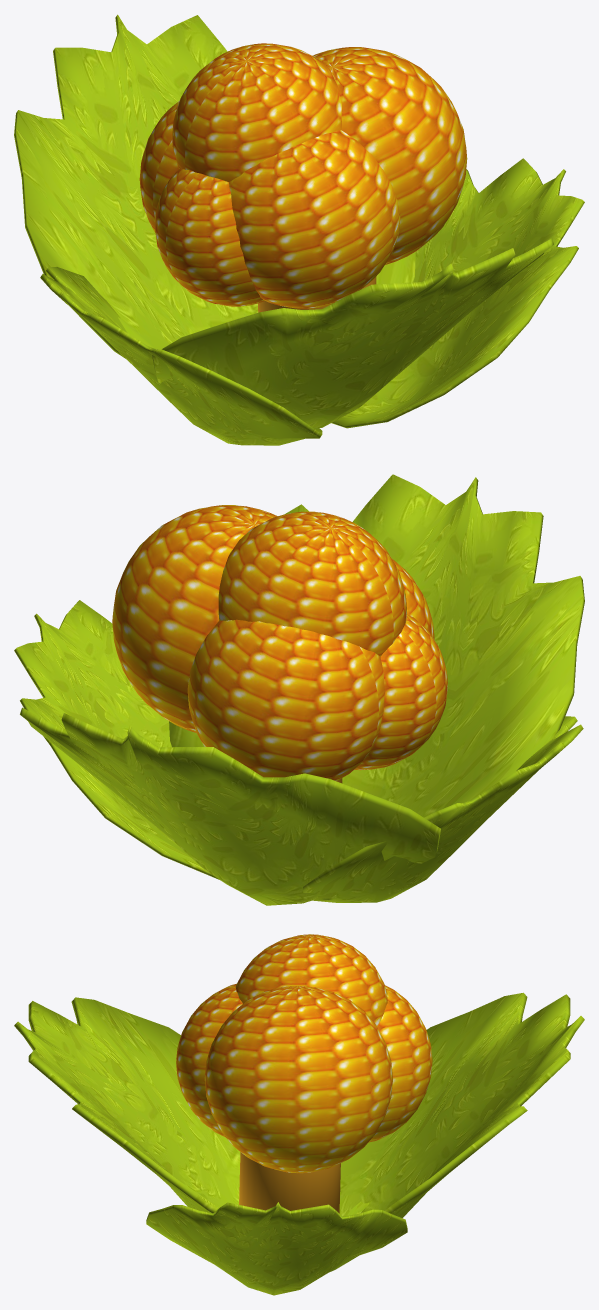
The model's file is sweetcorn3.fbx.
3 renders of one model, top to bottom at view 1: azimuth 30°, elevation 25°; view 2: azimuth 150°, elevation 25°; view 3: azimuth 270°, elevation 25°, orthographic. The views are drawn at different scales.
Visible parts, largest first — view 1: Sphere.001; view 2: Sphere.001; view 3: Sphere.001.
Boxes of the visible parts, box(x1,y1,x2,y2) form: Sphere.001: box(14, 14, 584, 445); Sphere.001: box(14, 474, 584, 905); Sphere.001: box(14, 934, 584, 1295).
Size of the model in its own units: 82.82 by 57.45 by 95.35.
